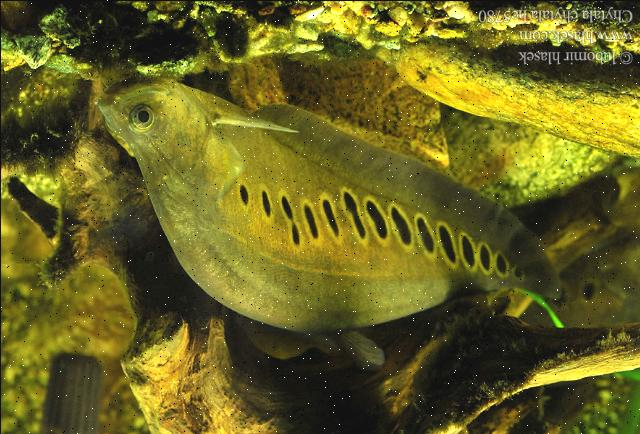Mulut: (88, 66, 186, 120)
Sirip Dada: (198, 96, 300, 144)
Sirip Punggung: (329, 322, 387, 388)
